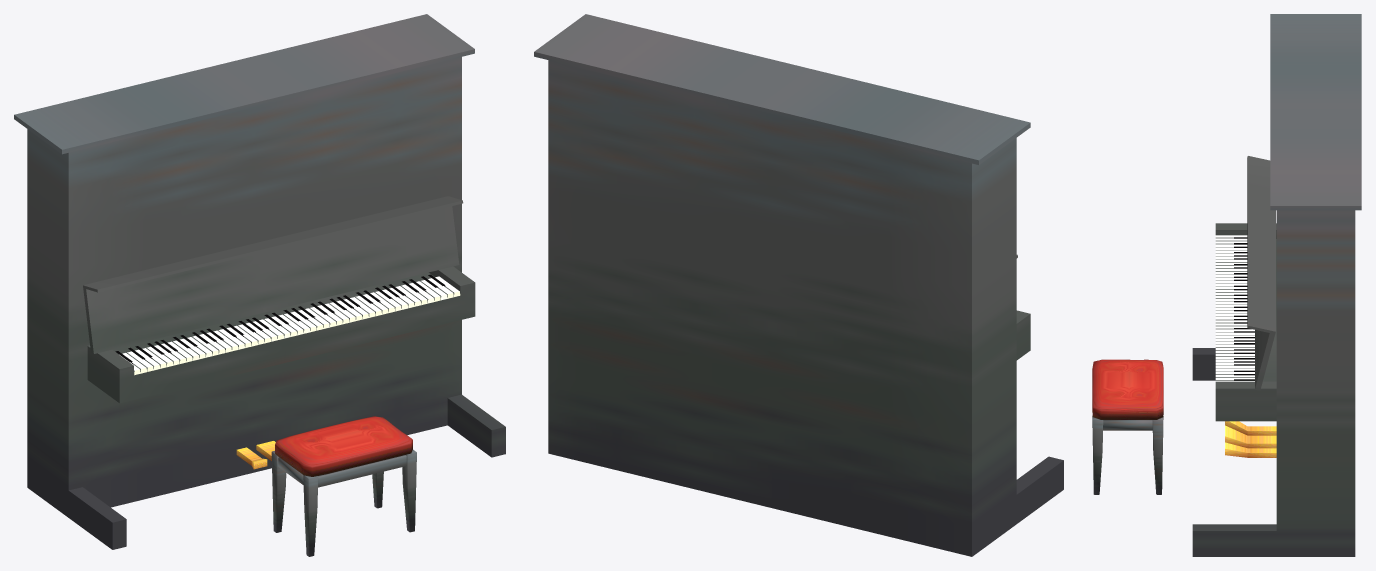
File: 2cbadba0-9d60-4432-8674-a345b6f28a04.glb
3 renders of one model, left to right at view 1: azimuth 30°, elevation 25°; view 2: azimuth 150°, elevation 25°; view 3: azimuth 270°, elevation 25°, orthographic. The views are drawn at different scales.
Visible parts, largest first — view 1: PianoUpright; view 2: PianoUpright; view 3: PianoUpright.
Boxes of the visible parts, bbox=[...] form: PianoUpright: bbox=[14, 14, 505, 556]; PianoUpright: bbox=[534, 14, 1063, 556]; PianoUpright: bbox=[1092, 14, 1361, 556].
Size of what is drawn, in the model's own units: 2.04 by 1.78 by 1.21.
Materials: 1 (1 with a texture image).
